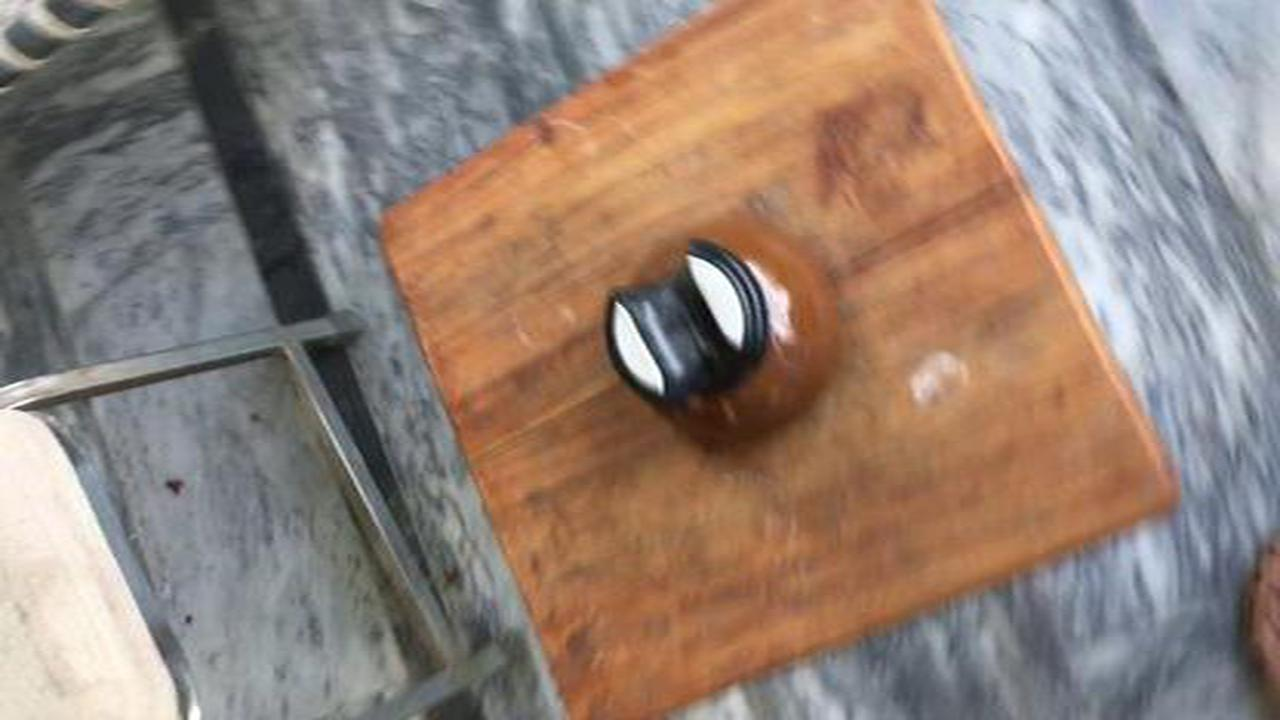insulator_pin: (582, 198, 871, 464)
